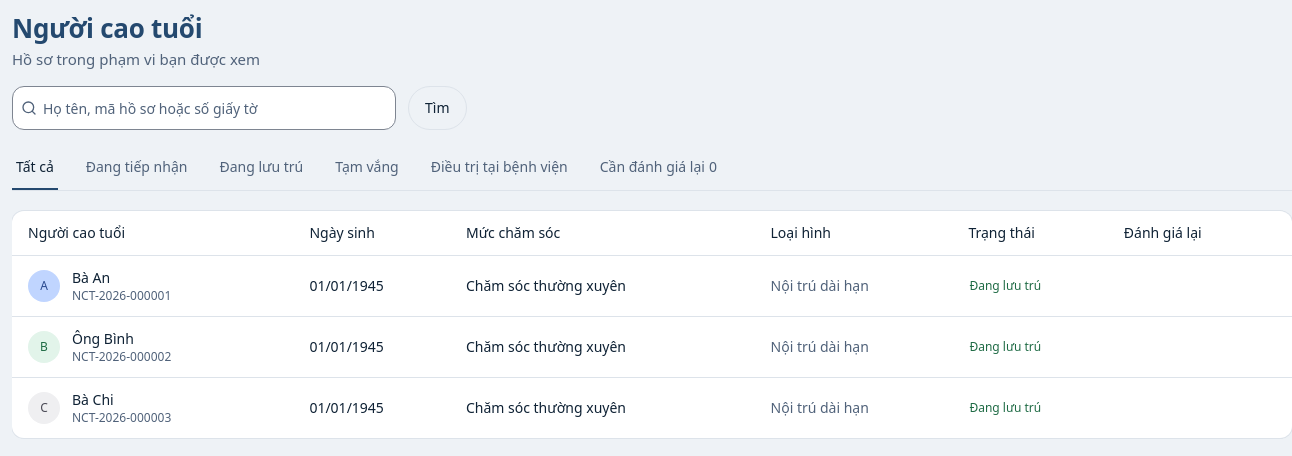
Scenario: ResidentListPage › không ai cần đánh giá lại: bộ lọc ghi 0 và hiện trạng thái trống
Step 1. Click the button "Cần đánh giá lại 0" → (658, 168), box [596,146,721,190]
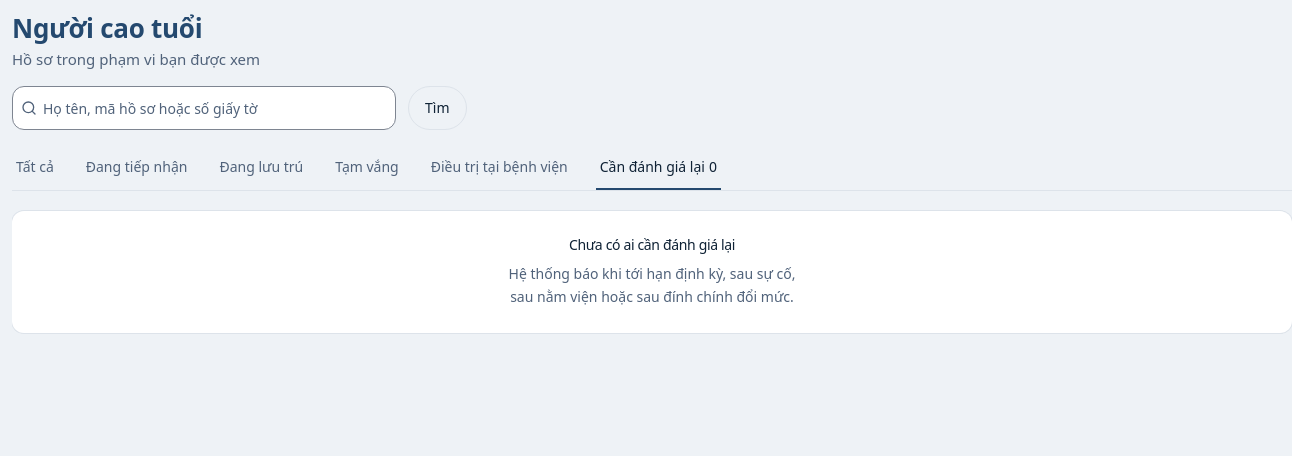
Now the text "Chưa có ai cần đánh giá lại" is shown, box [569,235,735,255]
